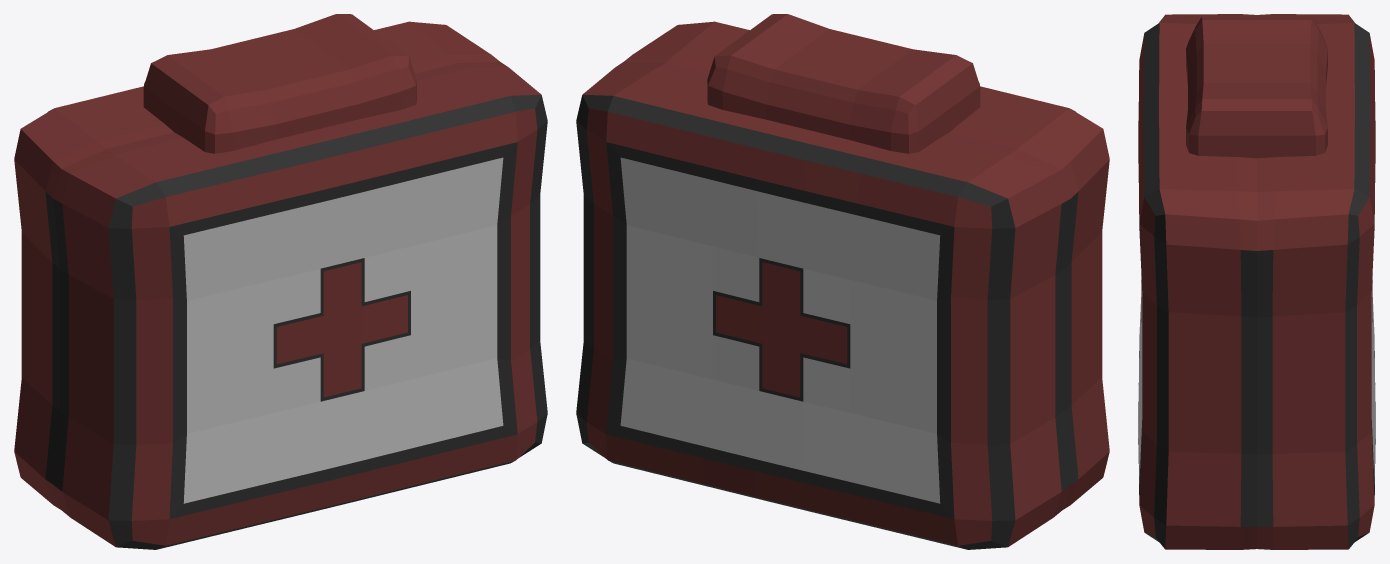
The model's file is First Aid Kit-wP00rePSRD.glb.
The picture shows the model from 3 angles, left to right: view 1: azimuth 30°, elevation 25°; view 2: azimuth 150°, elevation 25°; view 3: azimuth 270°, elevation 25°; orthographic projection. The views are drawn at different scales.
Visible parts, largest first — view 1: FirstAidKit; view 2: FirstAidKit; view 3: FirstAidKit.
Boxes of the visible parts, bbox=[...] form: FirstAidKit: bbox=[14, 14, 547, 549]; FirstAidKit: bbox=[576, 14, 1109, 549]; FirstAidKit: bbox=[1138, 14, 1375, 549].
Size of the model in its own units: 1.56 by 1.36 by 0.7333.
